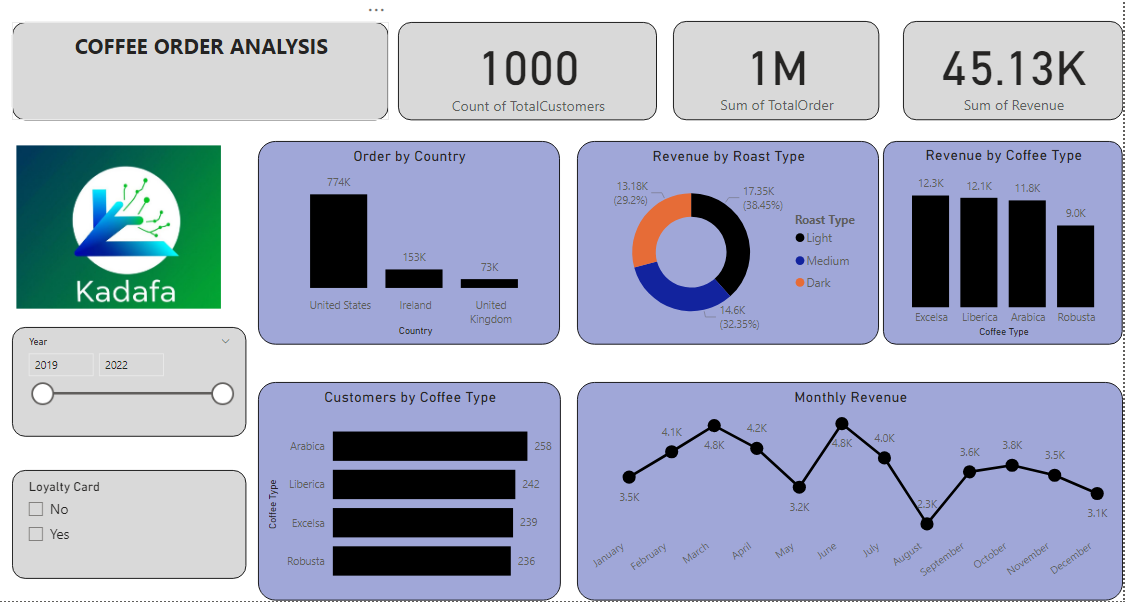

The page's visual inventory and layout, read from the dashboard file:
{"tool":"powerbi","page":{"name":"Page 2","canvas":[1280,720],"ordinal":1},"visuals":[{"type":"columnChart","title":"Order by Country","fields":{"Category":["customers.Country"],"Y":["Sum(orders.TotalOrder)"]},"box":[295.1,195.9,344.1,232.4],"z":0},{"type":"donutChart","title":"Revenue by Roast Type","fields":{"Category":["products.Roast Type"],"Y":["Sum(orders.Revenue)"]},"box":[658.5,195.9,344.1,232.4],"z":1000},{"type":"columnChart","title":" Revenue by Coffee Type","fields":{"Category":["products.Coffee Type"],"Y":["Sum(orders.Revenue)"]},"box":[1007.1,195.9,273.4,232.4],"z":2000},{"type":"barChart","title":"Customers by Coffee Type","fields":{"Category":["products.Coffee Type"],"Y":["CountNonNull(customers.TotalCustomers)"]},"box":[295.1,470.5,345.2,249.5],"z":3000},{"type":"lineChart","title":"Monthly Revenue","fields":{"Category":["orders.Order Date.Variation.Date Hierarchy.Month"],"Y":["Sum(orders.Revenue)"]},"box":[658.5,470.5,622,249.5],"z":4000},{"type":"card","fields":{"Values":["Sum(orders.Revenue)"]},"box":[1029.9,59.2,250.6,112.8],"z":5000},{"type":"textbox","box":[0,60.4,444.3,111.6],"z":6000},{"type":"card","fields":{"Values":["Sum(orders.TotalOrder)"]},"box":[767.8,59.2,234.7,112.8],"z":7000},{"type":"card","fields":{"Values":["CountNonNull(customers.TotalCustomers)"]},"box":[454.6,60.4,295.1,111.6],"z":8000},{"type":"slicer","fields":{"Values":["orders.Order Date.Variation.Date Hierarchy.Year"]},"box":[14.8,407.8,266.6,125.3],"z":9000},{"type":"slicer","fields":{"Values":["customers.Loyalty Card"]},"box":[14.8,570.8,266.6,124.2],"z":10000},{"type":"image","box":[14.8,195.9,242.7,195.9],"z":10001}]}

Visuals, with their boxes in screenshot pixels (x1, y1, x2, y2):
"Order by Country" columnChart: region(253, 138, 557, 344)
"Revenue by Roast Type" donutChart: region(574, 138, 879, 344)
" Revenue by Coffee Type" columnChart: region(883, 138, 1125, 344)
"Customers by Coffee Type" barChart: region(253, 382, 558, 601)
"Monthly Revenue" lineChart: region(574, 382, 1125, 601)
card - Sum(orders.Revenue): region(903, 17, 1125, 117)
textbox: region(0, 18, 385, 117)
card - Sum(orders.TotalOrder): region(671, 17, 879, 117)
card - CountNonNull(customers.TotalCustomers): region(394, 18, 655, 117)
slicer - orders.Order Date.Variation.Date Hierarchy.Year: region(4, 326, 240, 437)
slicer - customers.Loyalty Card: region(4, 470, 240, 580)
image: region(4, 138, 219, 312)
